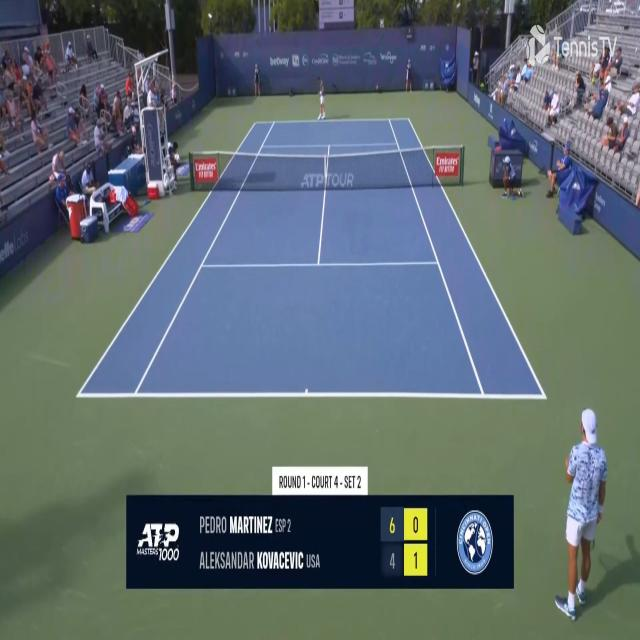tennis-player: (557, 404, 612, 626), (315, 74, 327, 122)
